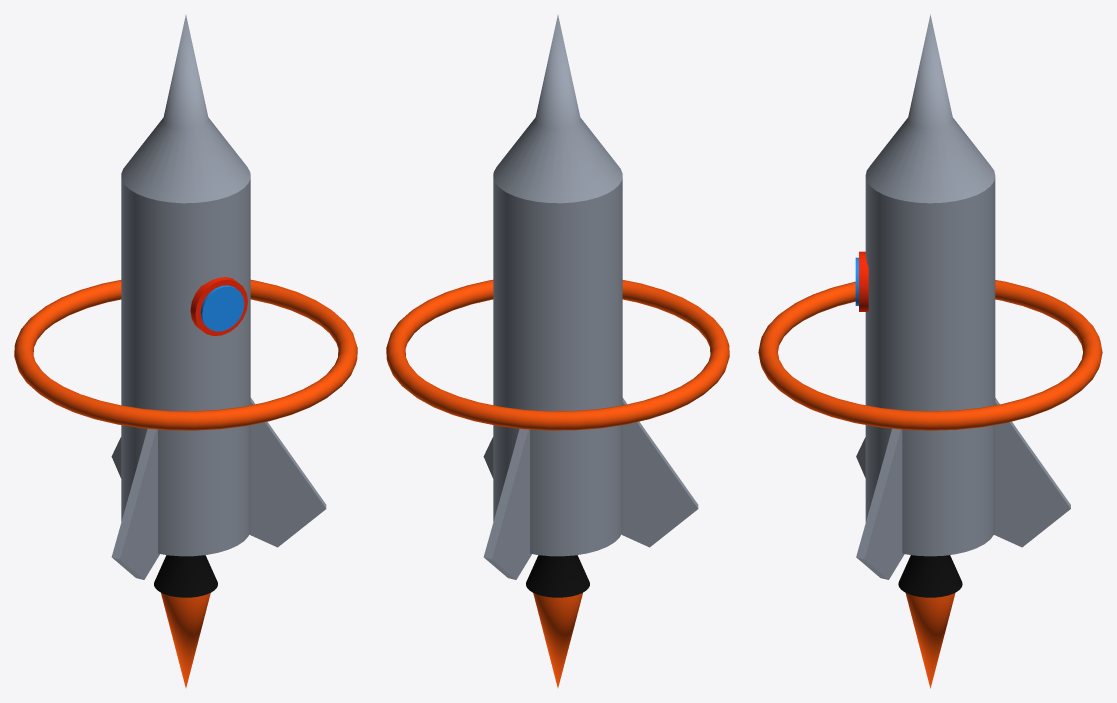
The model's file is Rocket_18_HaloProbe.obj.
The picture shows the model from 3 angles, left to right: view 1: azimuth 30°, elevation 25°; view 2: azimuth 150°, elevation 25°; view 3: azimuth 270°, elevation 25°; orthographic projection.
Visible parts, largest first — view 1: R18_Body, R18_Halo_1, R18_Nose, R18_Fin_3, R18_Fin_2, R18_Flame_1, R18_Nozzle_1, R18_Window_1, R18_WindowFrame_1; view 2: R18_Body, R18_Halo_1, R18_Nose, R18_Fin_2, R18_Fin_1, R18_Flame_1, R18_Nozzle_1; view 3: R18_Body, R18_Halo_1, R18_Nose, R18_Fin_1, R18_Fin_3, R18_Flame_1, R18_Nozzle_1, R18_WindowFrame_1.
Boxes of the visible parts, x1=… form: R18_Body: x1=121, y1=178, x2=250, y2=556; R18_Halo_1: x1=14, y1=280, x2=357, y2=430; R18_Nose: x1=121, y1=15, x2=250, y2=203; R18_Fin_3: x1=249, y1=397, x2=326, y2=547; R18_Fin_2: x1=111, y1=428, x2=159, y2=579; R18_Flame_1: x1=161, y1=593, x2=210, y2=687; R18_Nozzle_1: x1=154, y1=555, x2=217, y2=597; R18_Window_1: x1=200, y1=285, x2=244, y2=331; R18_WindowFrame_1: x1=190, y1=277, x2=247, y2=335; R18_Body: x1=493, y1=178, x2=622, y2=556; R18_Halo_1: x1=386, y1=280, x2=729, y2=430; R18_Nose: x1=493, y1=15, x2=622, y2=203; R18_Fin_2: x1=621, y1=397, x2=698, y2=547; R18_Fin_1: x1=483, y1=429, x2=531, y2=579; R18_Flame_1: x1=533, y1=593, x2=582, y2=687; R18_Nozzle_1: x1=526, y1=555, x2=589, y2=597; R18_Body: x1=865, y1=177, x2=995, y2=556; R18_Halo_1: x1=758, y1=280, x2=1102, y2=430; R18_Nose: x1=865, y1=14, x2=995, y2=203; R18_Fin_1: x1=994, y1=398, x2=1070, y2=547; R18_Fin_3: x1=856, y1=428, x2=904, y2=579; R18_Flame_1: x1=905, y1=592, x2=955, y2=688; R18_Nozzle_1: x1=898, y1=555, x2=962, y2=597; R18_WindowFrame_1: x1=859, y1=251, x2=868, y2=311.
Size of the model in its own units: 4.24 by 9.17 by 4.24.
